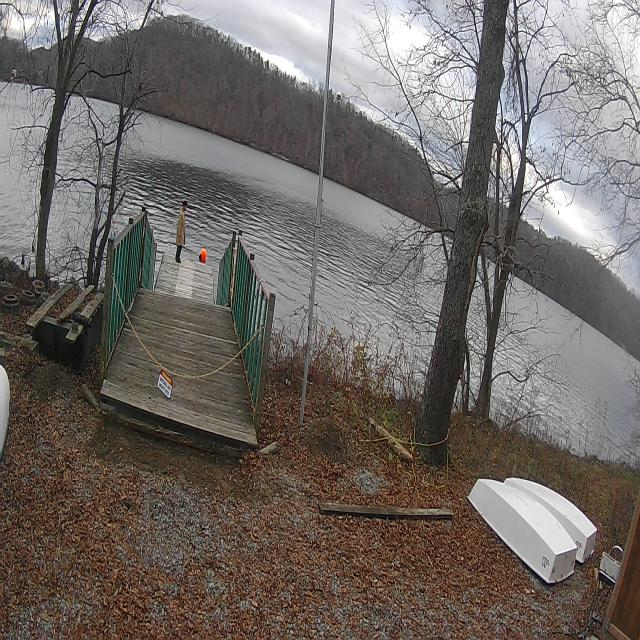Buoy: (198, 245, 209, 265)
